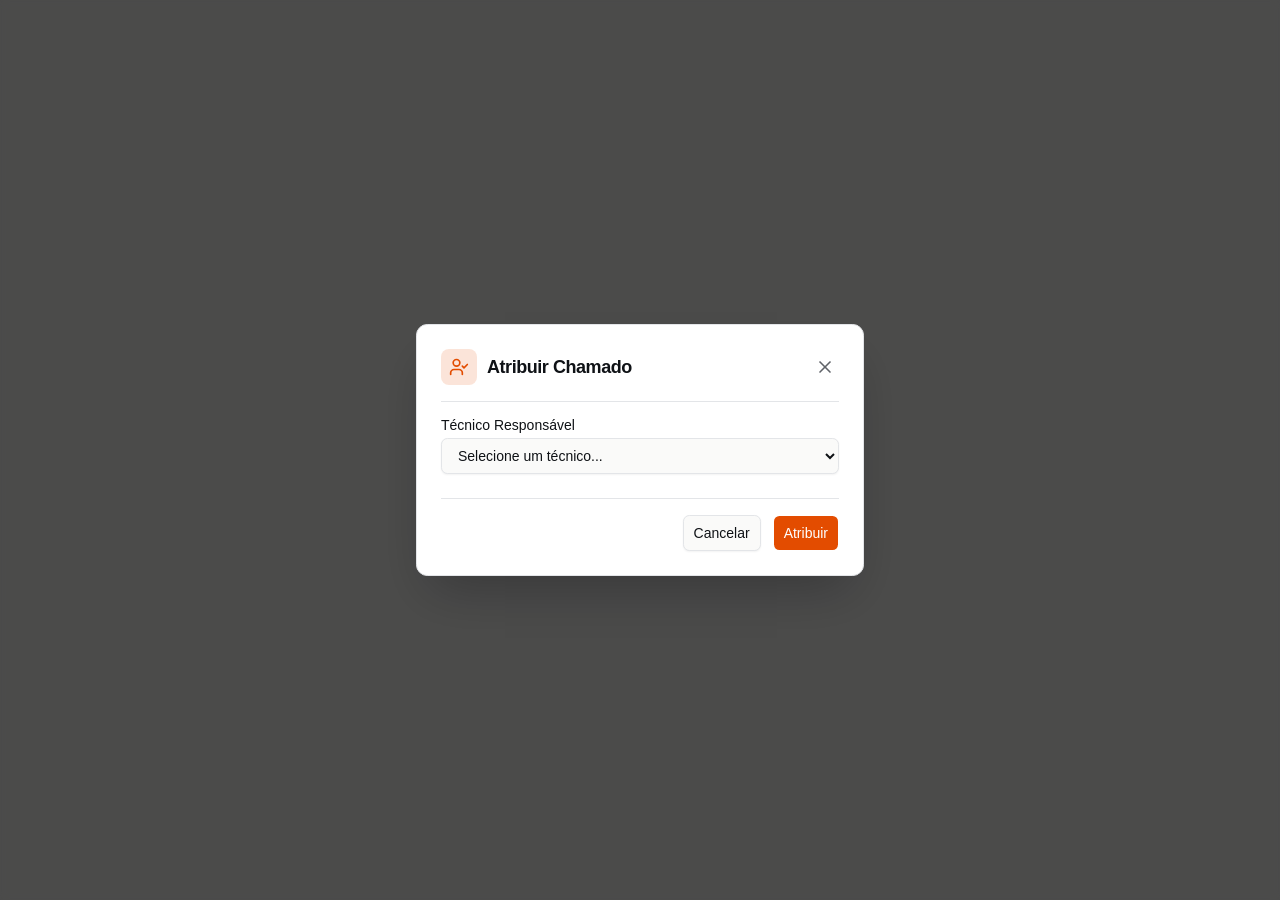
Test: AssignTicketModal › deve exibir mensagem de erro se a API falhar
Select "Carlos Tech (carlos@test.com) — Técnico" in the dropdown labelled "Técnico Responsável" at point(640, 456), box [441,438,839,474]
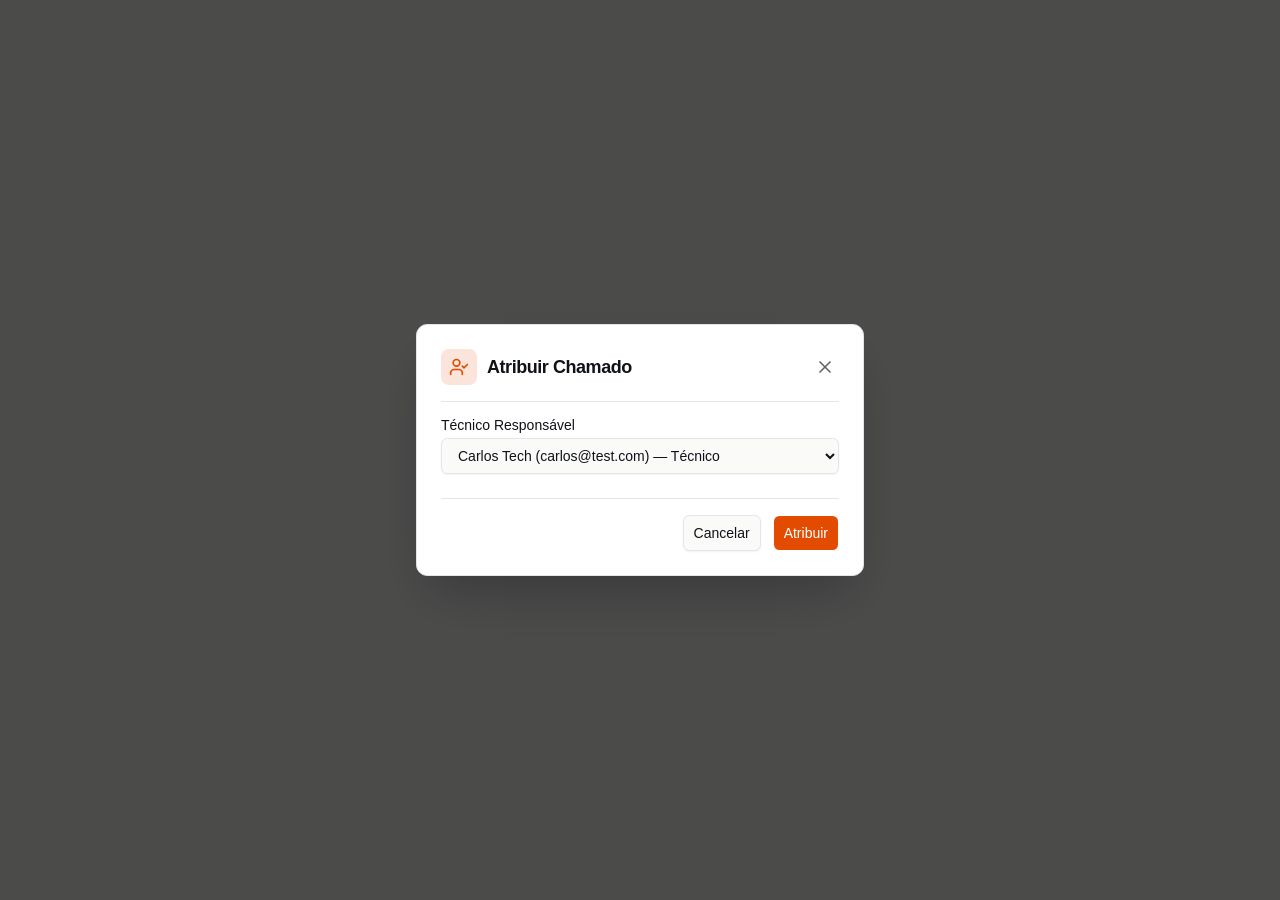
Click the button "Atribuir" at point(806, 533), box [773,515,839,551]
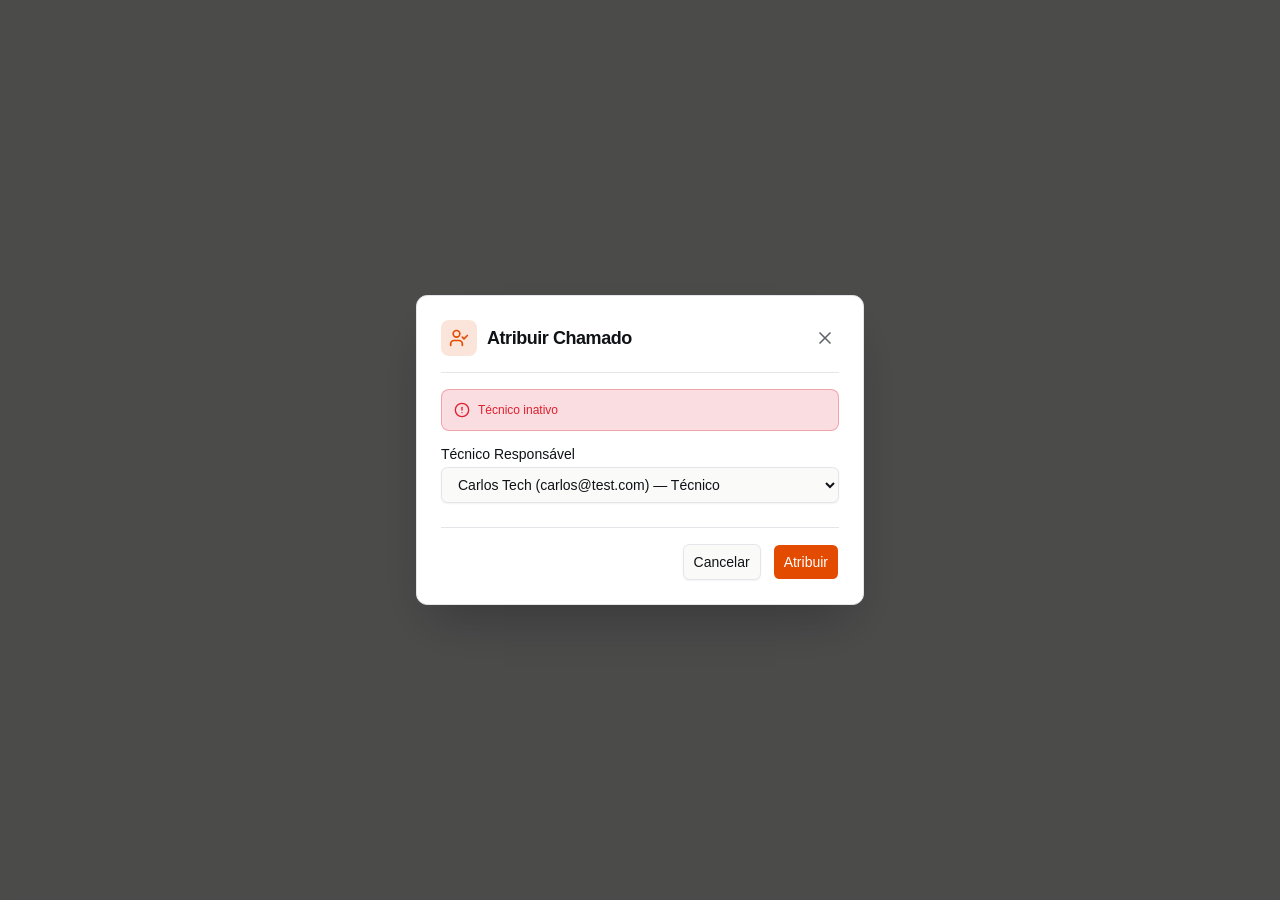
Result: the text "Técnico inativo" is shown at [478,402,558,418]
